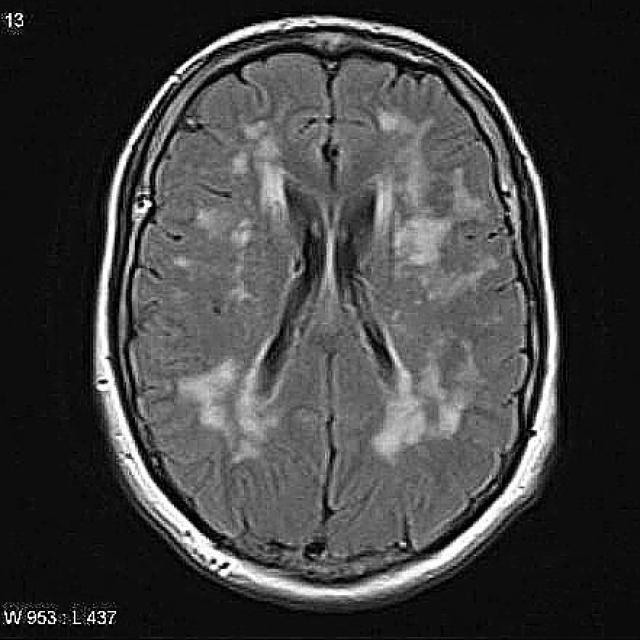notumor: (94, 17, 559, 608)
